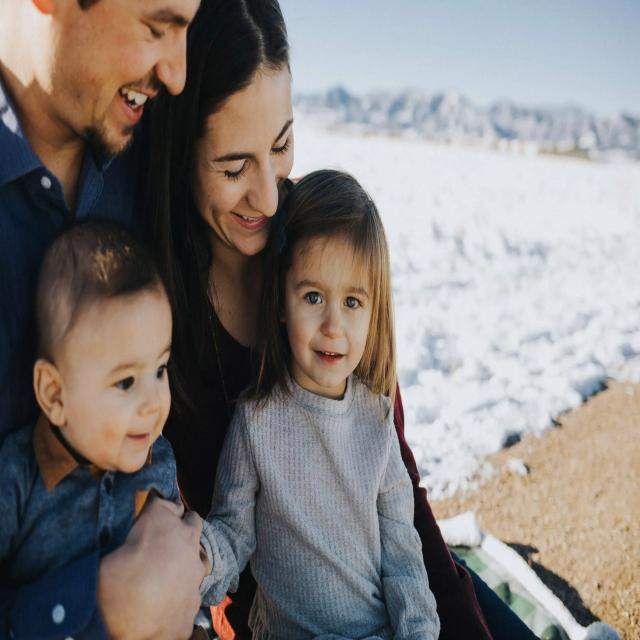adult: (178, 0, 546, 640), (0, 0, 206, 640)
child: (193, 169, 440, 640), (0, 219, 190, 640)
